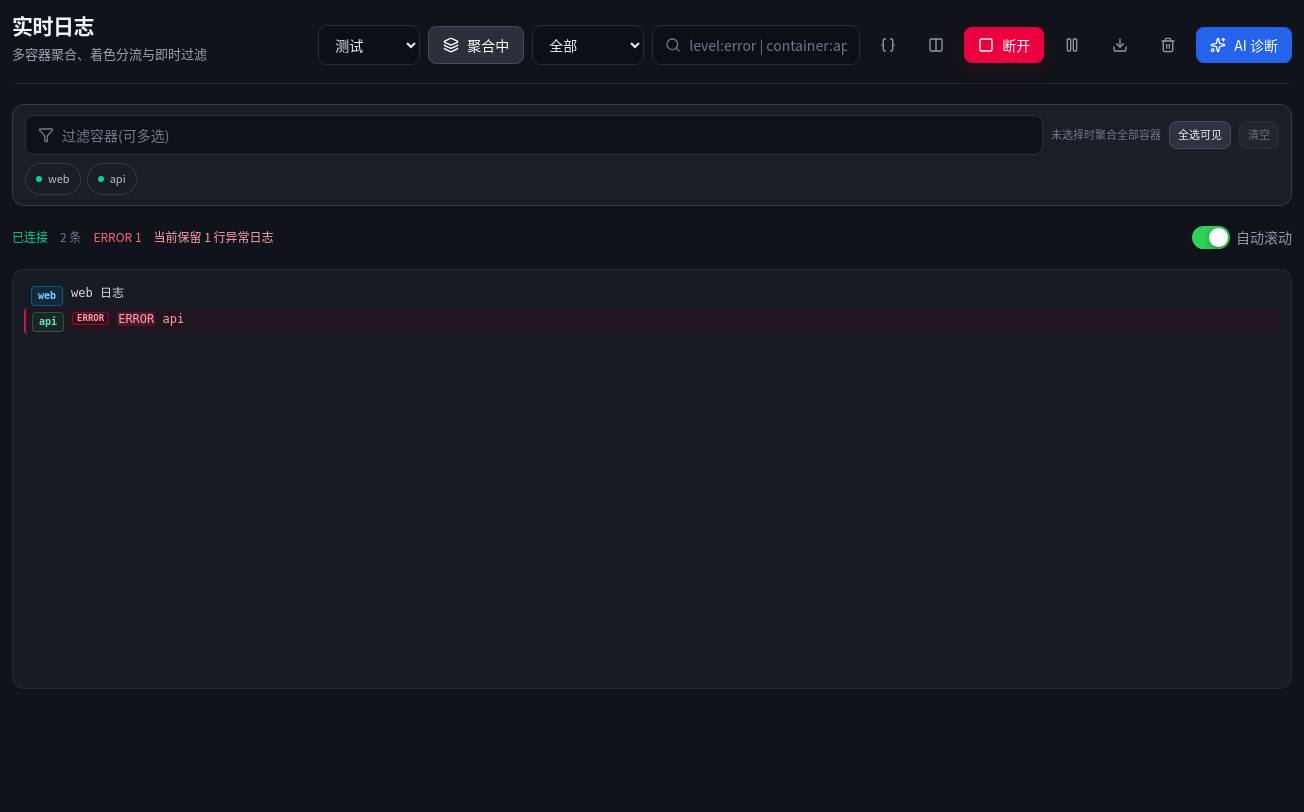
日志页面生命周期与数据完整性 › 分栏与查询叠加:无命中的容器不再占栏
Click the button titled "按容器分栏显示(快捷键 s)" at (936, 45), box x1=916 y1=25 x2=956 y2=65
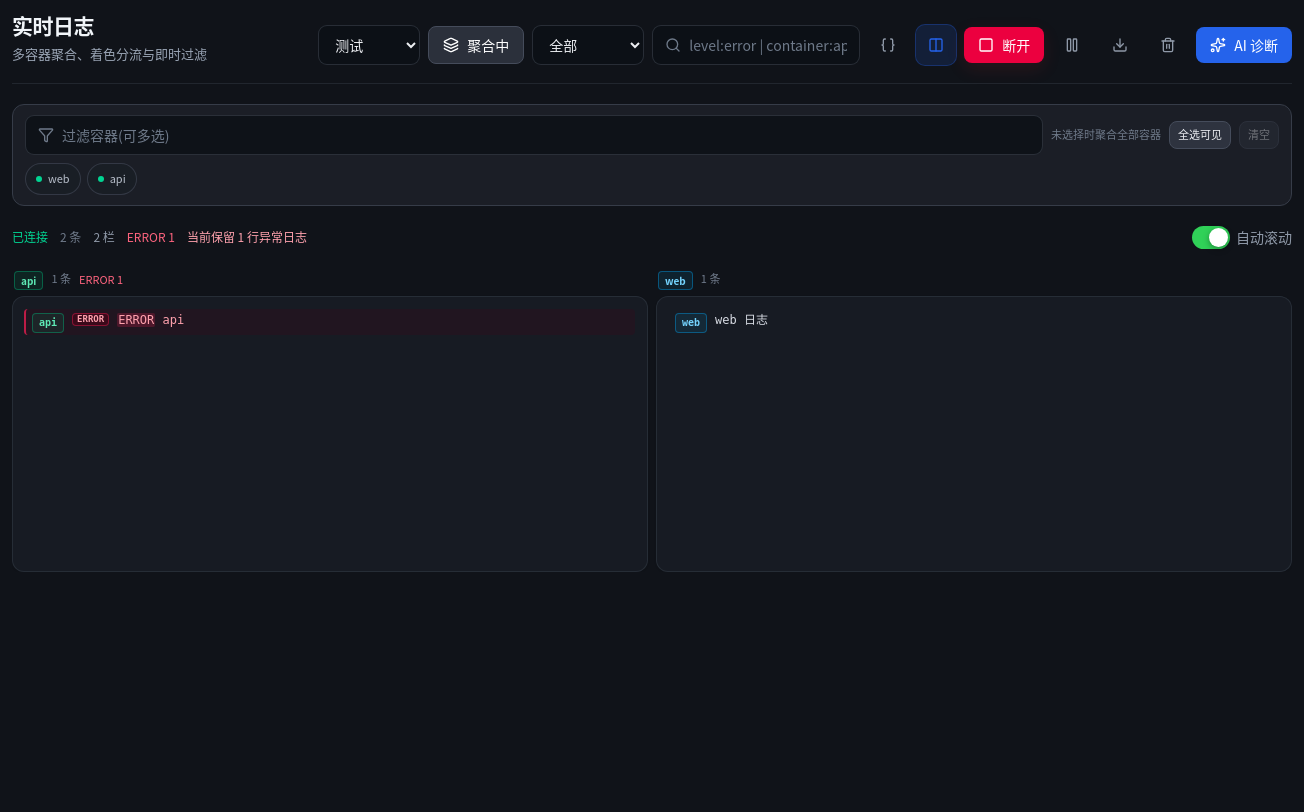
Now the number of elements with class "log-pane" is 2, box x1=12 y1=269 x2=648 y2=572; x1=656 y1=269 x2=1292 y2=572
Type "level:error" into the field with placeholder "level:error | container:api" at (768, 45), box x1=689 y1=27 x2=847 y2=63
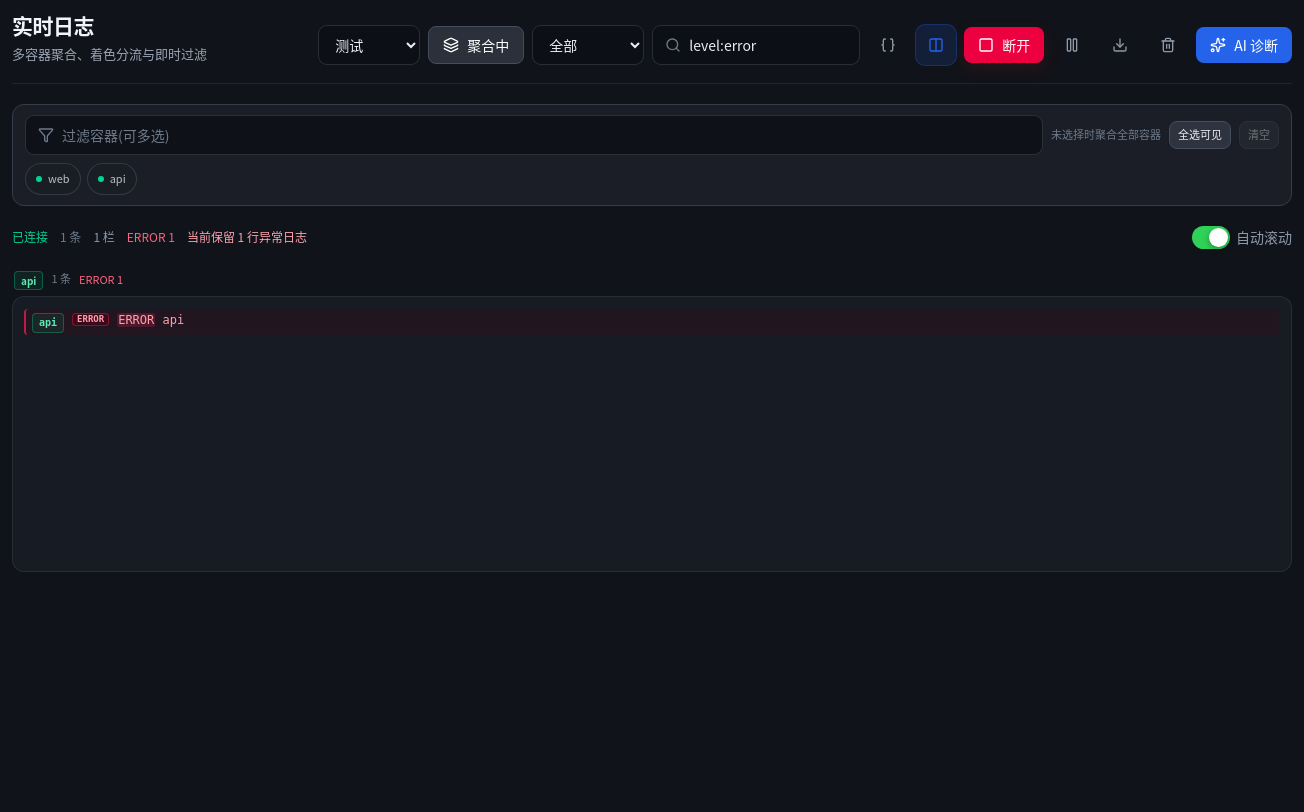
Now the 2nd text with class "container-badge" reads "api", box x1=21 y1=273 x2=36 y2=288
Now the number of elements with class "log-pane" is 1, box x1=12 y1=269 x2=1292 y2=572
Now the text "1 栏" is shown, box x1=93 y1=228 x2=115 y2=247
Replace the text in the field with placeholder "level:error | container:api" with "level:error container:missing" at (768, 45), box x1=689 y1=27 x2=847 y2=63
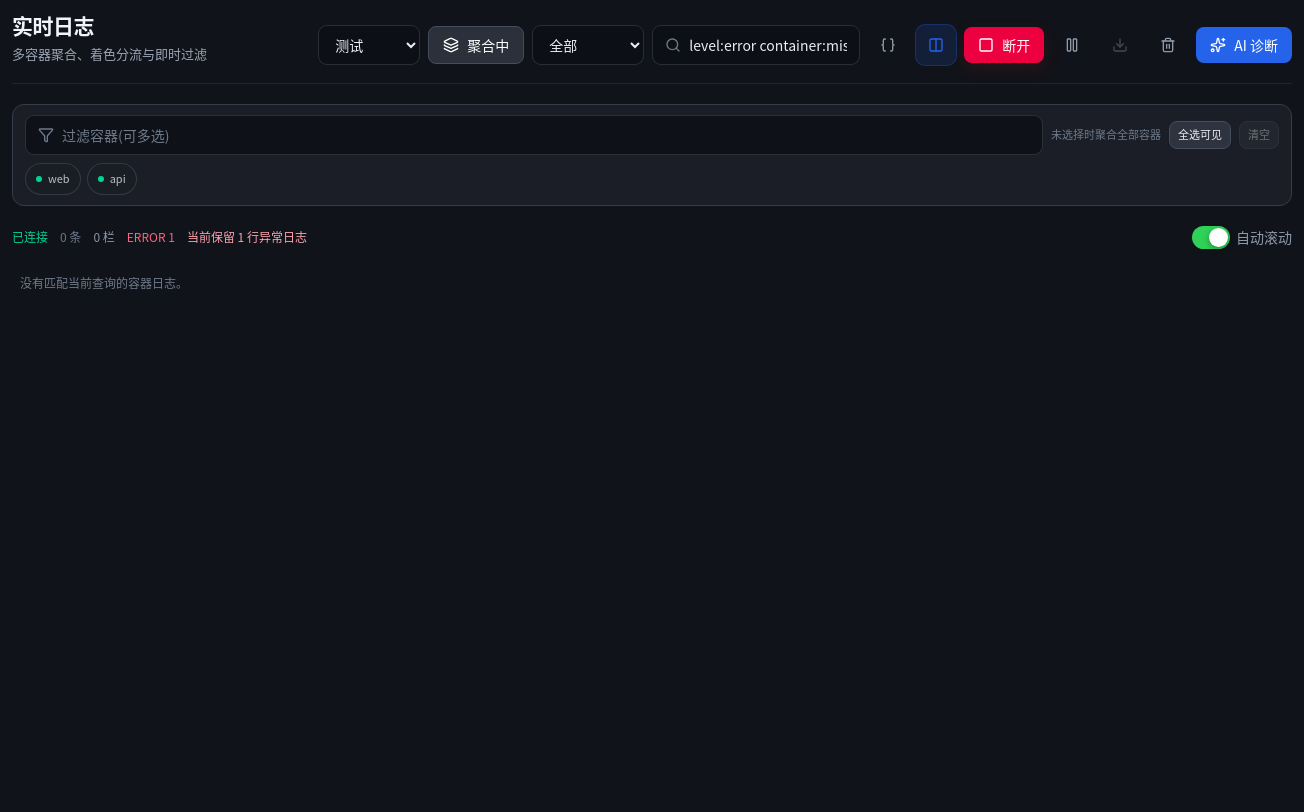
Now no elements with class "log-pane" are shown
Now the text "没有匹配当前查询的容器日志。" is shown, box x1=20 y1=274 x2=188 y2=291
